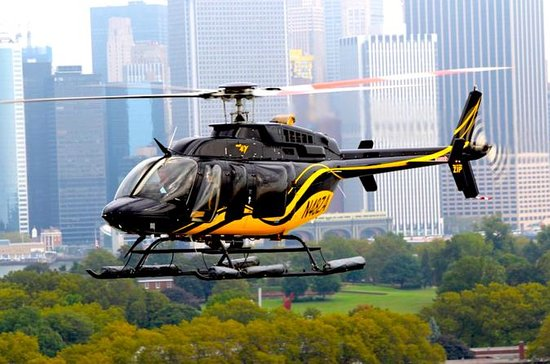Helicopter: (82, 71, 485, 290)
